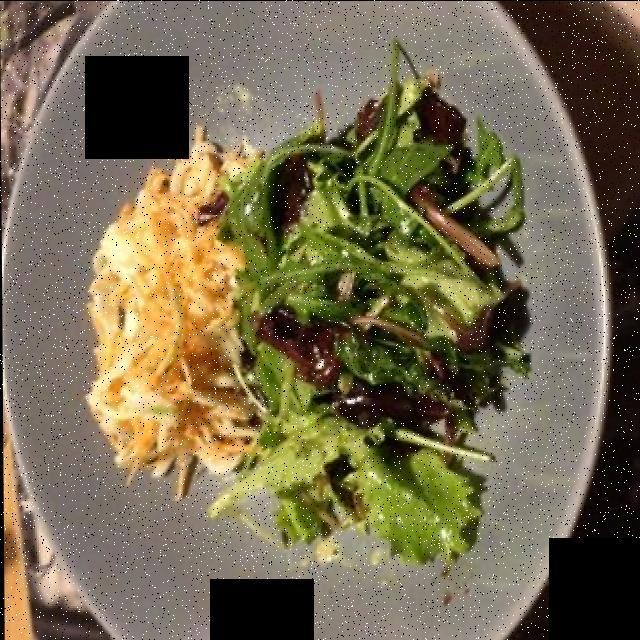coleslaw: (93, 145, 266, 482)
salad: (212, 63, 522, 551)
